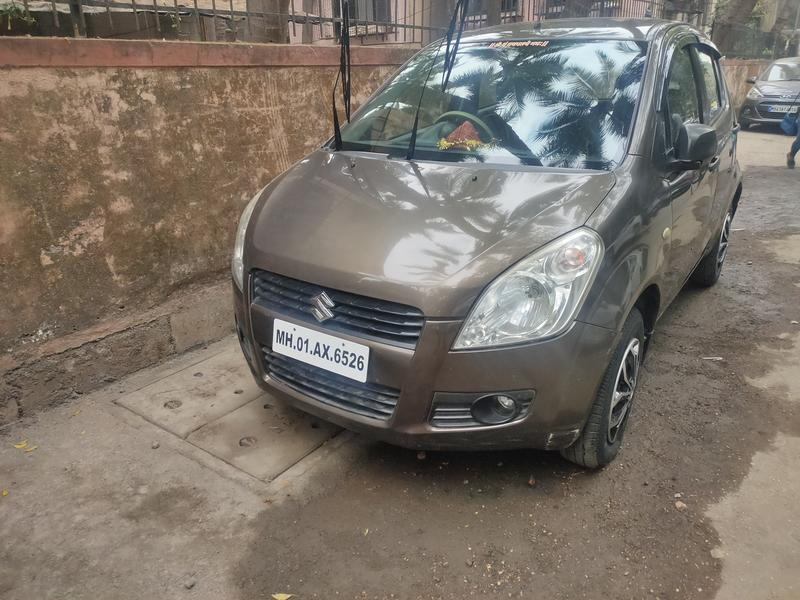license_plate: (267, 315, 373, 393)
